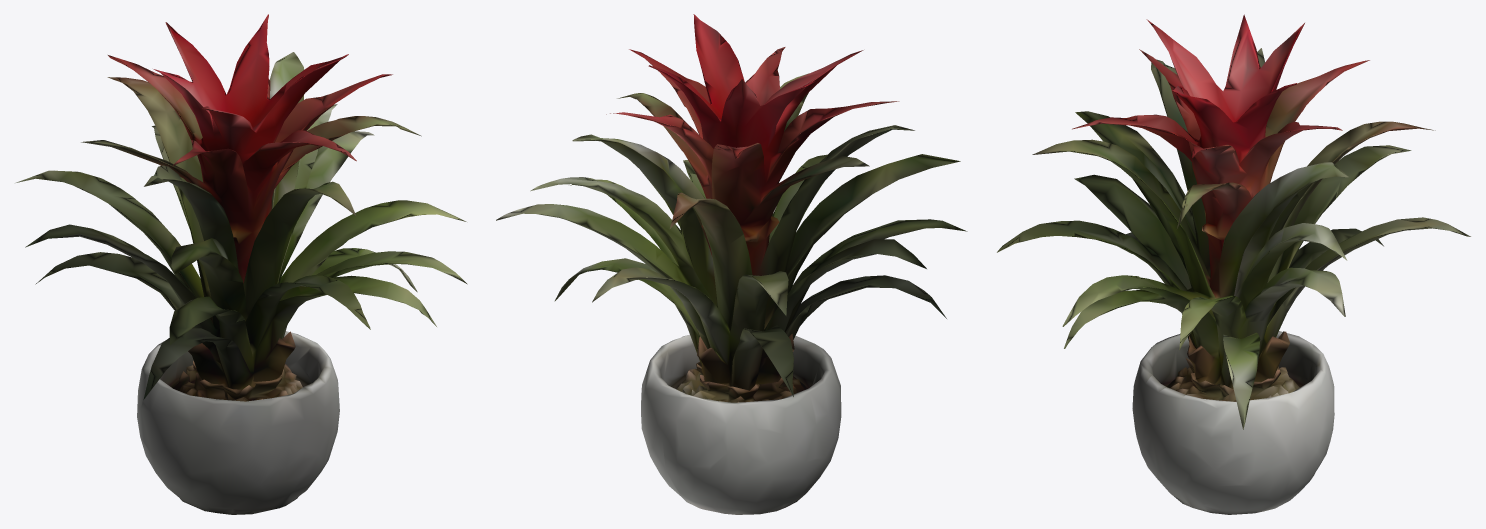
Rendered from tropical2.glb.
3 renders of one model, left to right at view 1: azimuth 30°, elevation 25°; view 2: azimuth 150°, elevation 25°; view 3: azimuth 270°, elevation 25°, orthographic.
Bounding box in the file's own units: 0.9395 × 0.9997 × 0.961.
